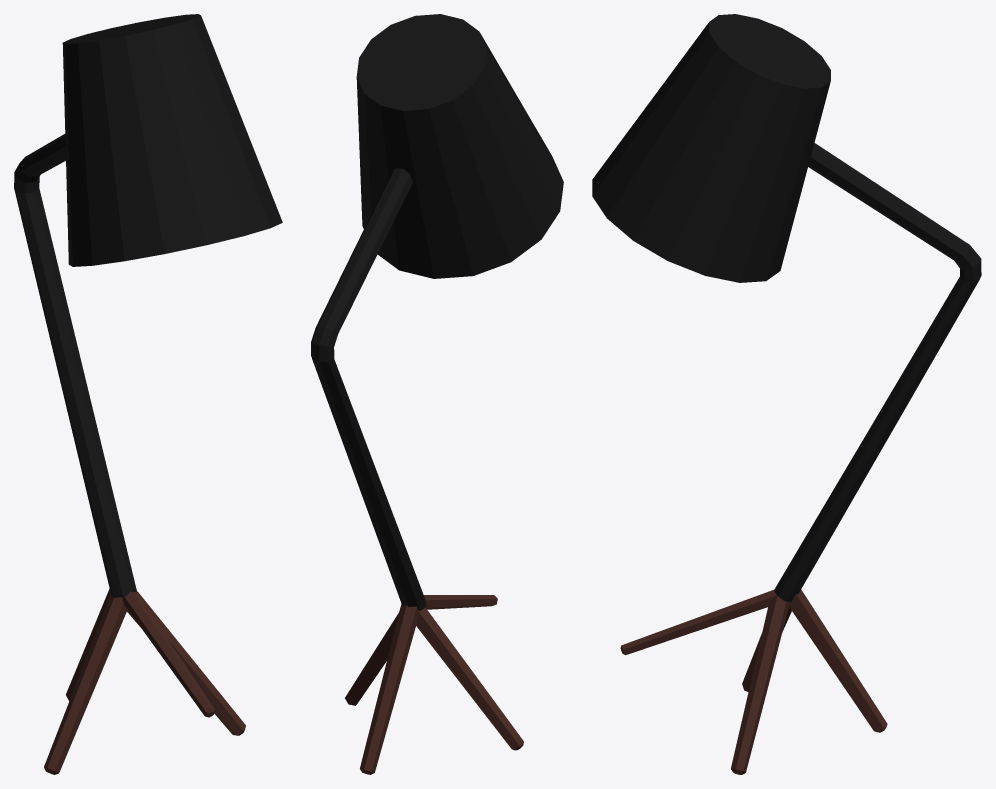
The model's file is Desk Lamp.glb.
3 renders of one model, left to right at view 1: azimuth 30°, elevation 25°; view 2: azimuth 150°, elevation 25°; view 3: azimuth 270°, elevation 25°, orthographic. The views are drawn at different scales.
Parts seen in each view (by area): view 1: Desk_lamp; view 2: Desk_lamp; view 3: Desk_lamp.
Part boxes in pixels (box(x1,y1,x2,y2)): Desk_lamp: box(14, 14, 282, 774); Desk_lamp: box(311, 14, 563, 774); Desk_lamp: box(592, 14, 981, 774).
Bounding box in the file's own units: 0.1133 × 0.4163 × 0.2079.
1 material, 1 textured.
